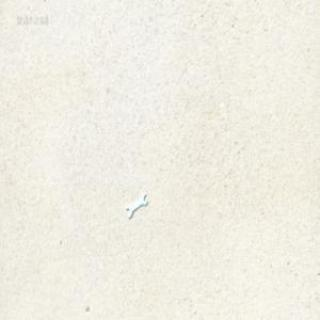Wrenchtrack_idkeyframe: (124, 192, 148, 219)
